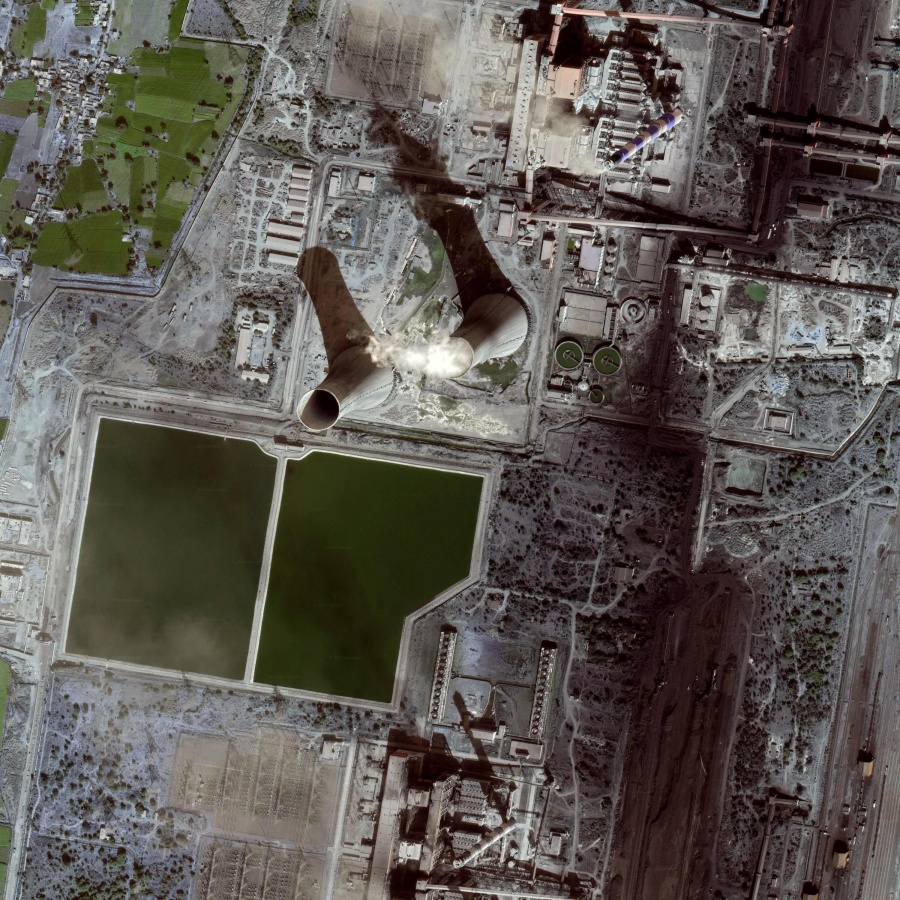PowerPlant: (52, 413, 490, 721)
